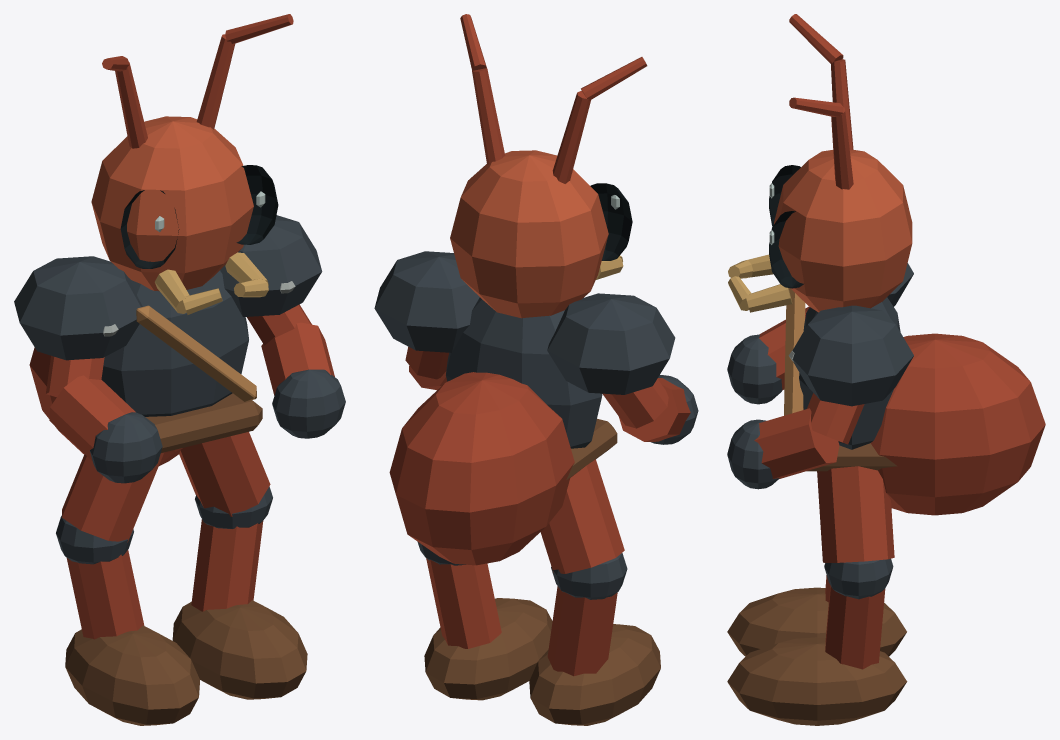
The model's file is worker.glb.
3 renders of one model, left to right at view 1: azimuth 30°, elevation 25°; view 2: azimuth 150°, elevation 25°; view 3: azimuth 270°, elevation 25°, orthographic. The views are drawn at different scales.
Visible parts, largest first — view 1: worker; view 2: worker; view 3: worker.
Boxes of the visible parts, x1=… form: worker: x1=14, y1=14, x2=345, y2=725; worker: x1=374, y1=14, x2=698, y2=725; worker: x1=727, y1=14, x2=1045, y2=725.
Size of the model in its own units: 0.94 by 2.03 by 0.92.
